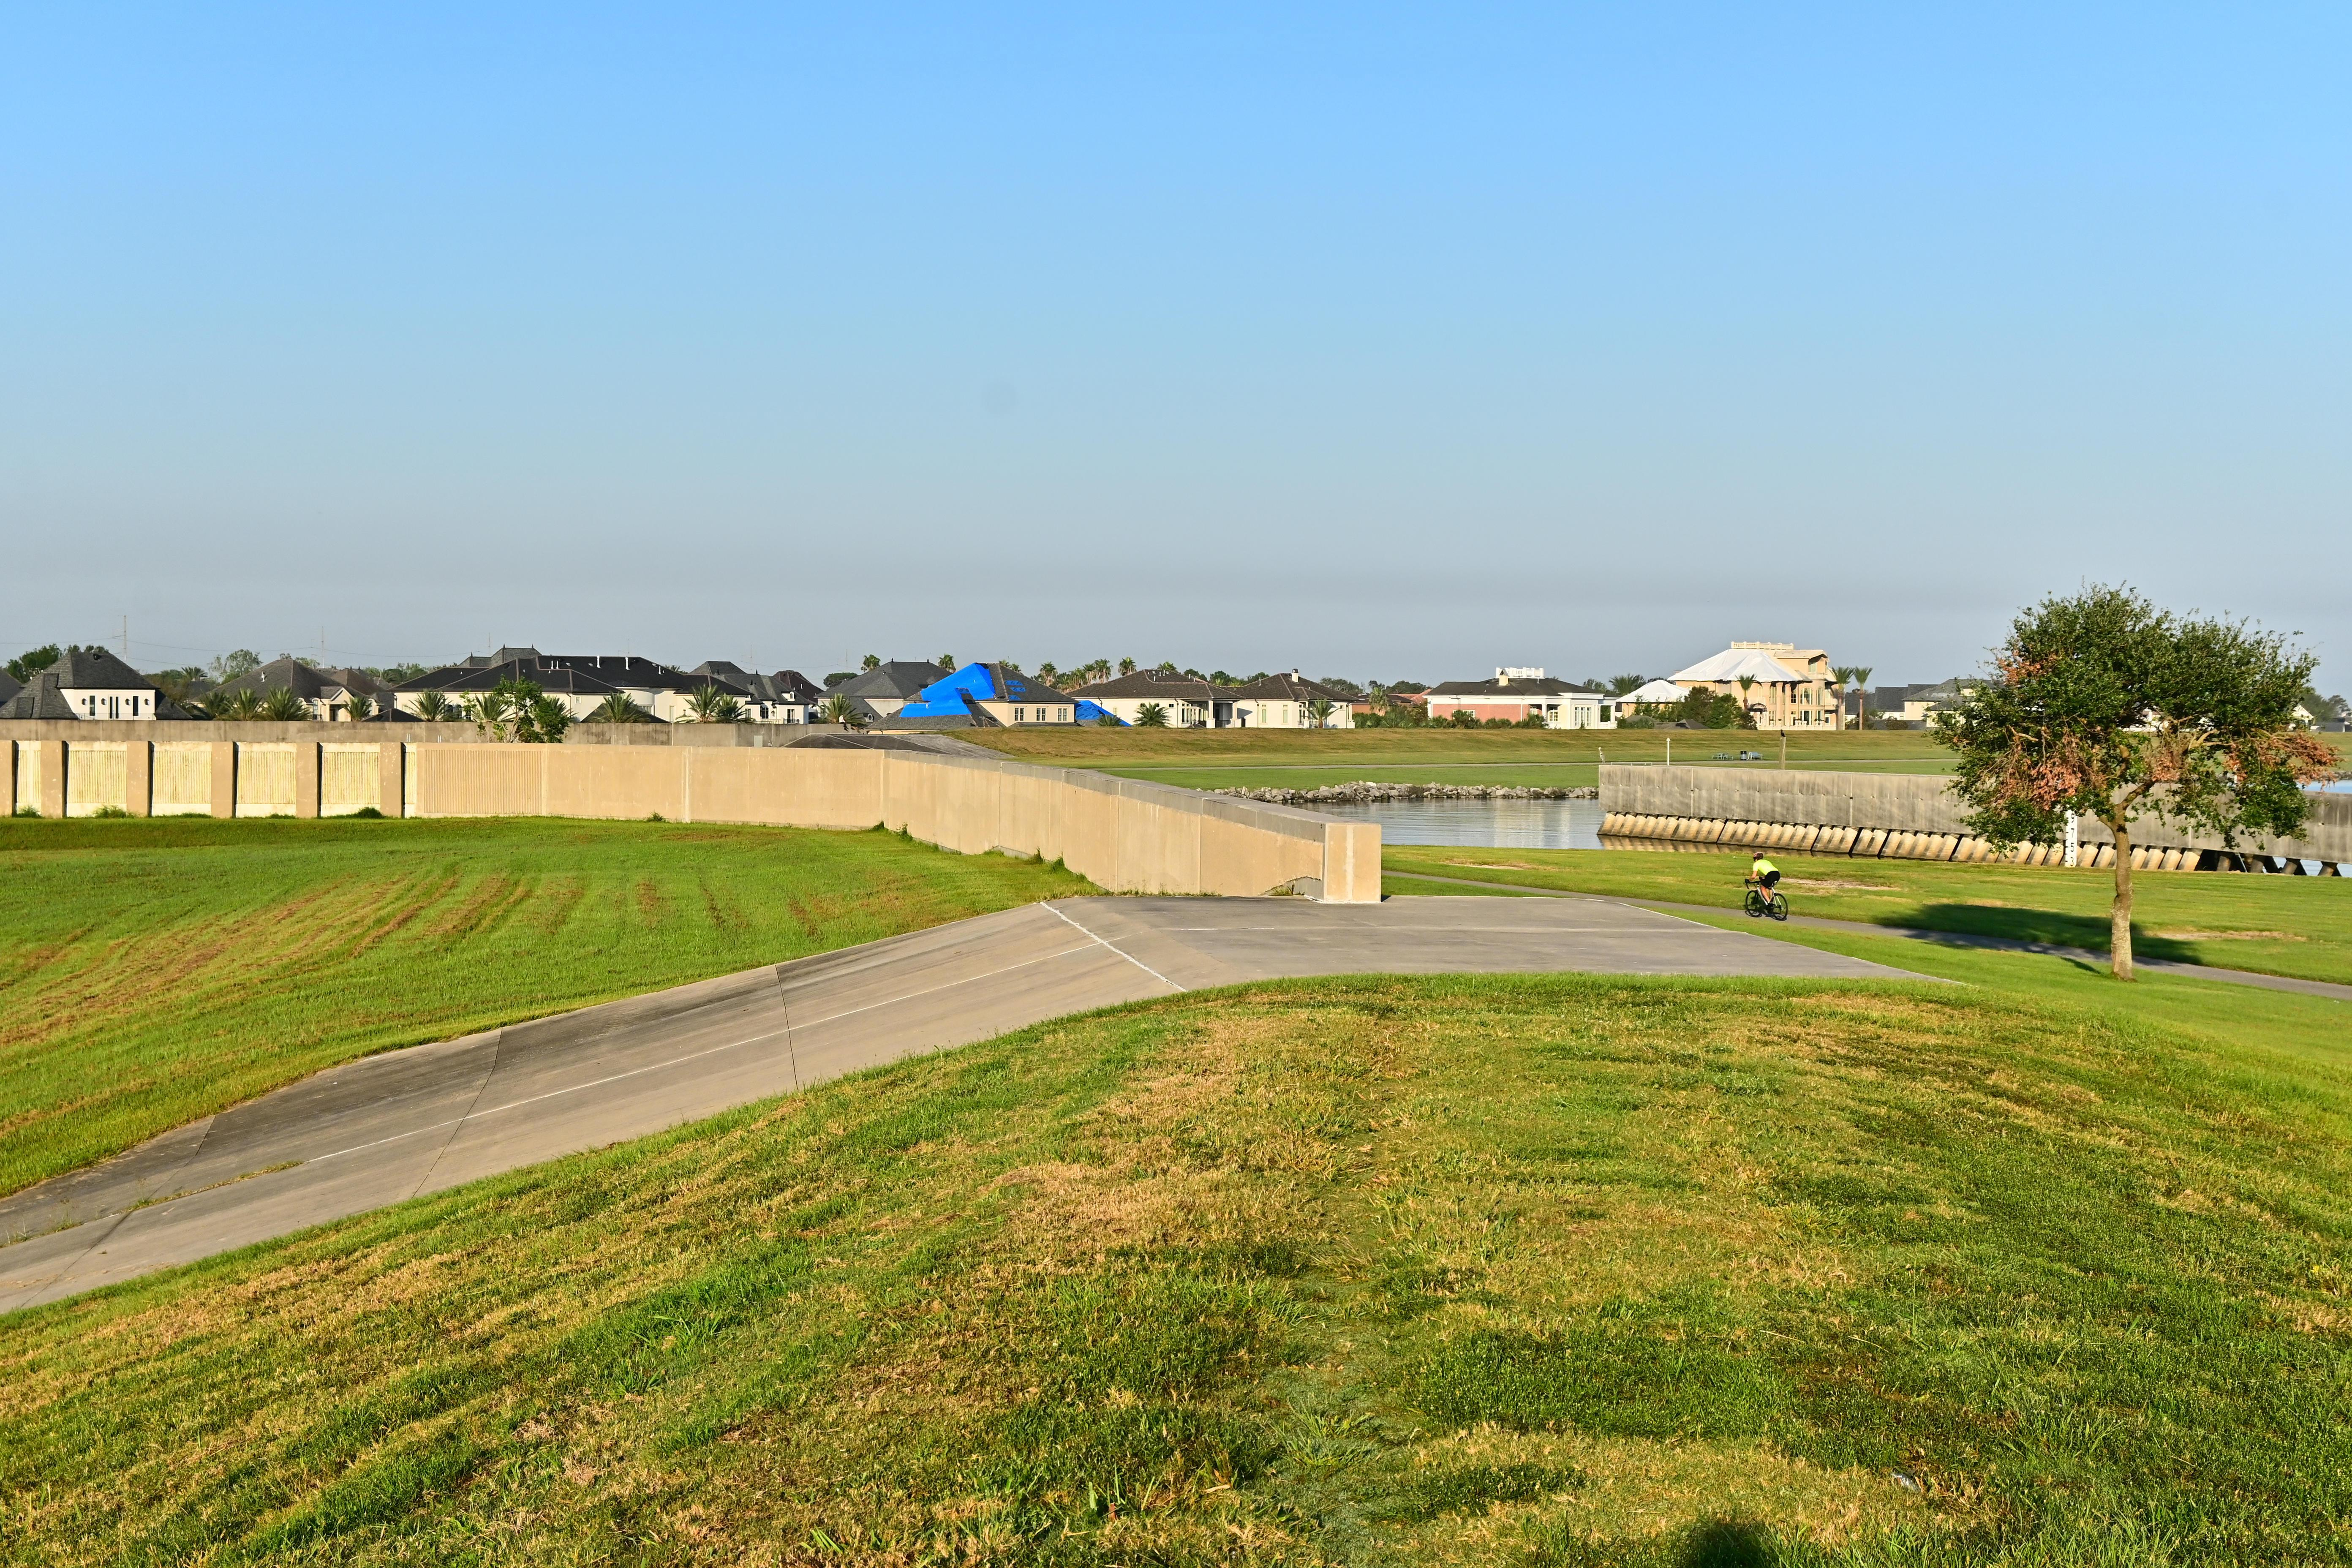affected: (1603, 620, 1855, 742)
minor: (896, 646, 1118, 742)
